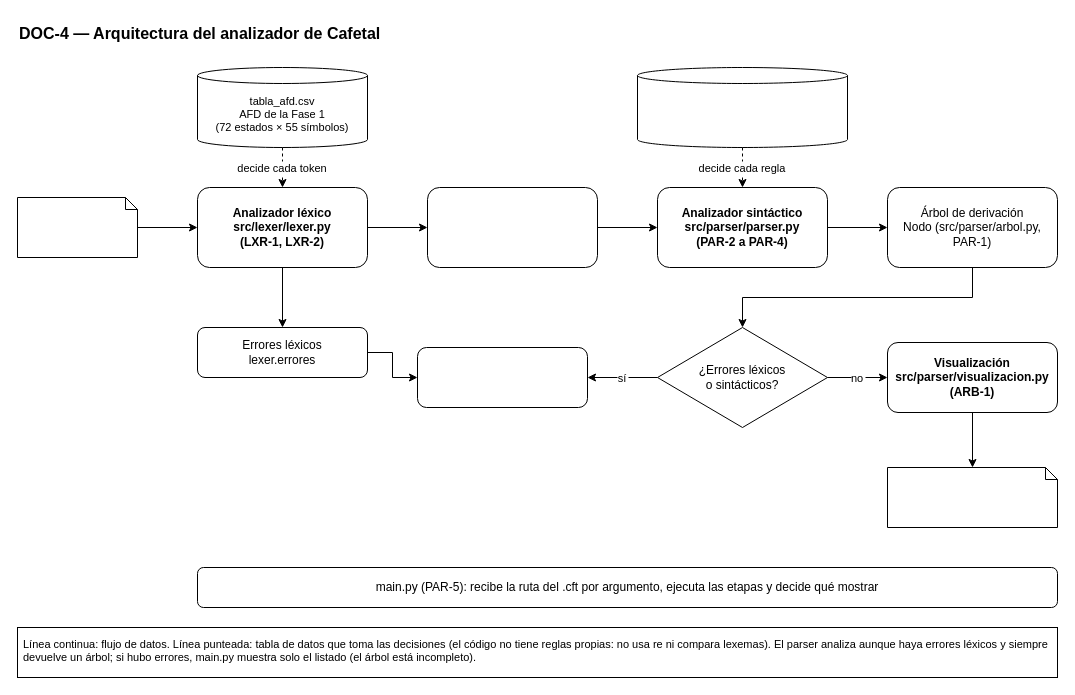
The diagram is 1075 pixels wide and 695 high, and some of its shapes have lost their labels. Each missing label, with the centre of its shape:
"Lista de tokens Token(tipo, lexema, línea, columna) + EOF" belongs at [512,227].
"Listado de errores (stderr, código 1)" belongs at [502,377].
"Programa fuente .cft" belongs at [77,227].
"tabla_ll1.csv y siguiente.csv Tabla LL(1) y SIGUIENTE (GIC-6)" belongs at [742,107].
"Árbol en consola, .txt, derivación, .dot y .png" belongs at [972,497].
